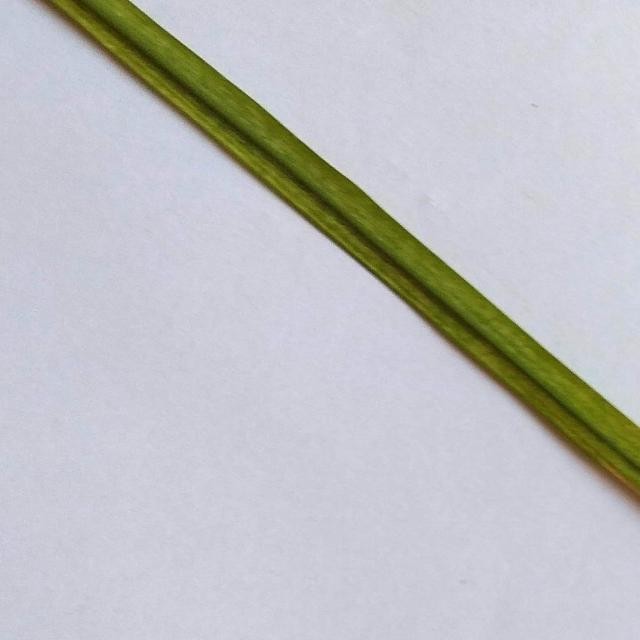Rice_Healthy: (50, 0, 640, 494)
